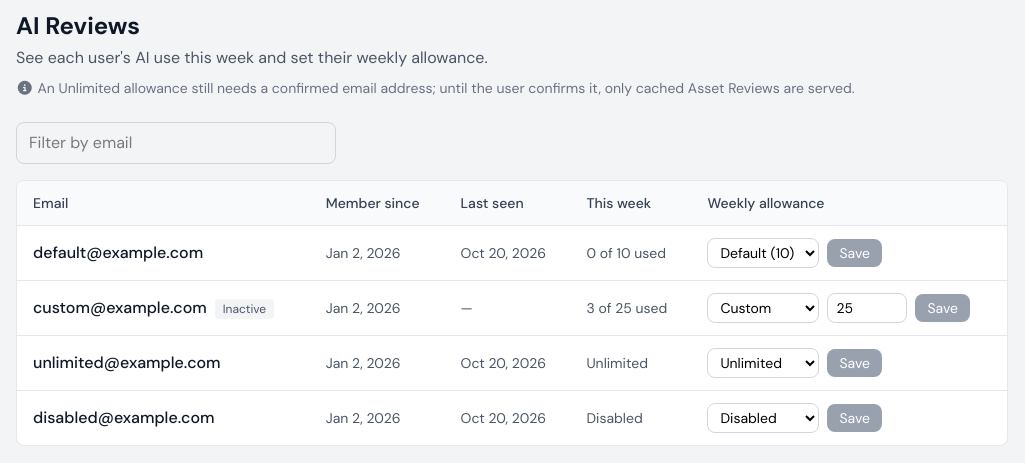
admin AI Reviews page › will not save a custom limit below one
Select "Custom" in the dropdown named "Allowance for default@example.com" at (763, 253), box [707, 238, 819, 268]
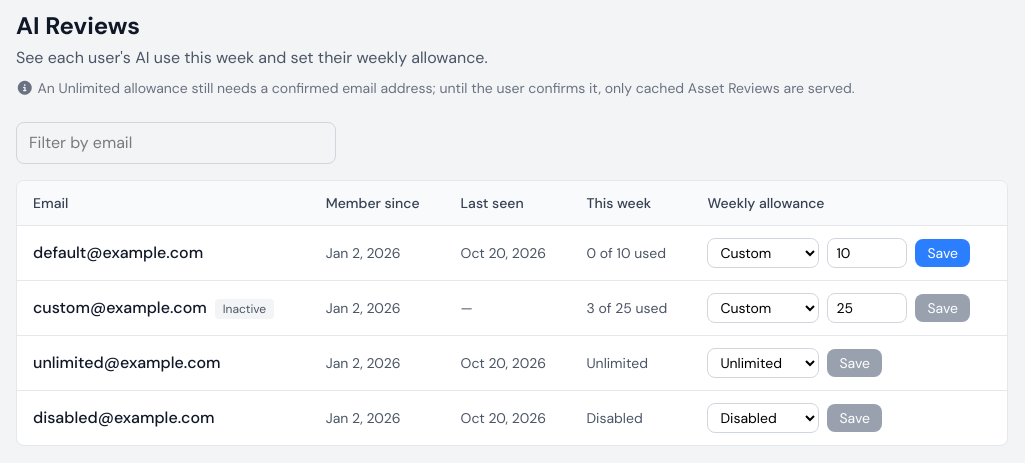
Replace the text in the number field named "Weekly limit for default@example.com" with "0" at (867, 253), box [827, 238, 907, 268]
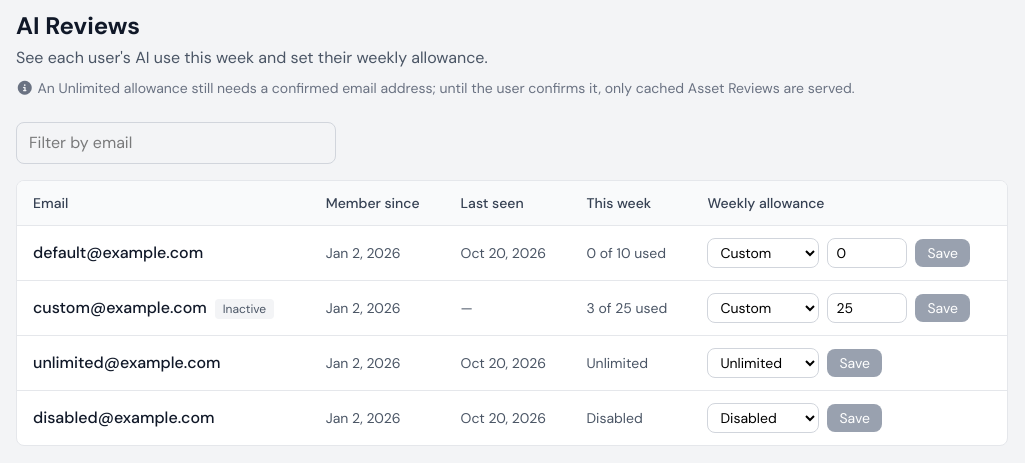
Expected: the button "Save" in the row of "default@example.com" is disabled, [915, 239, 970, 267]
